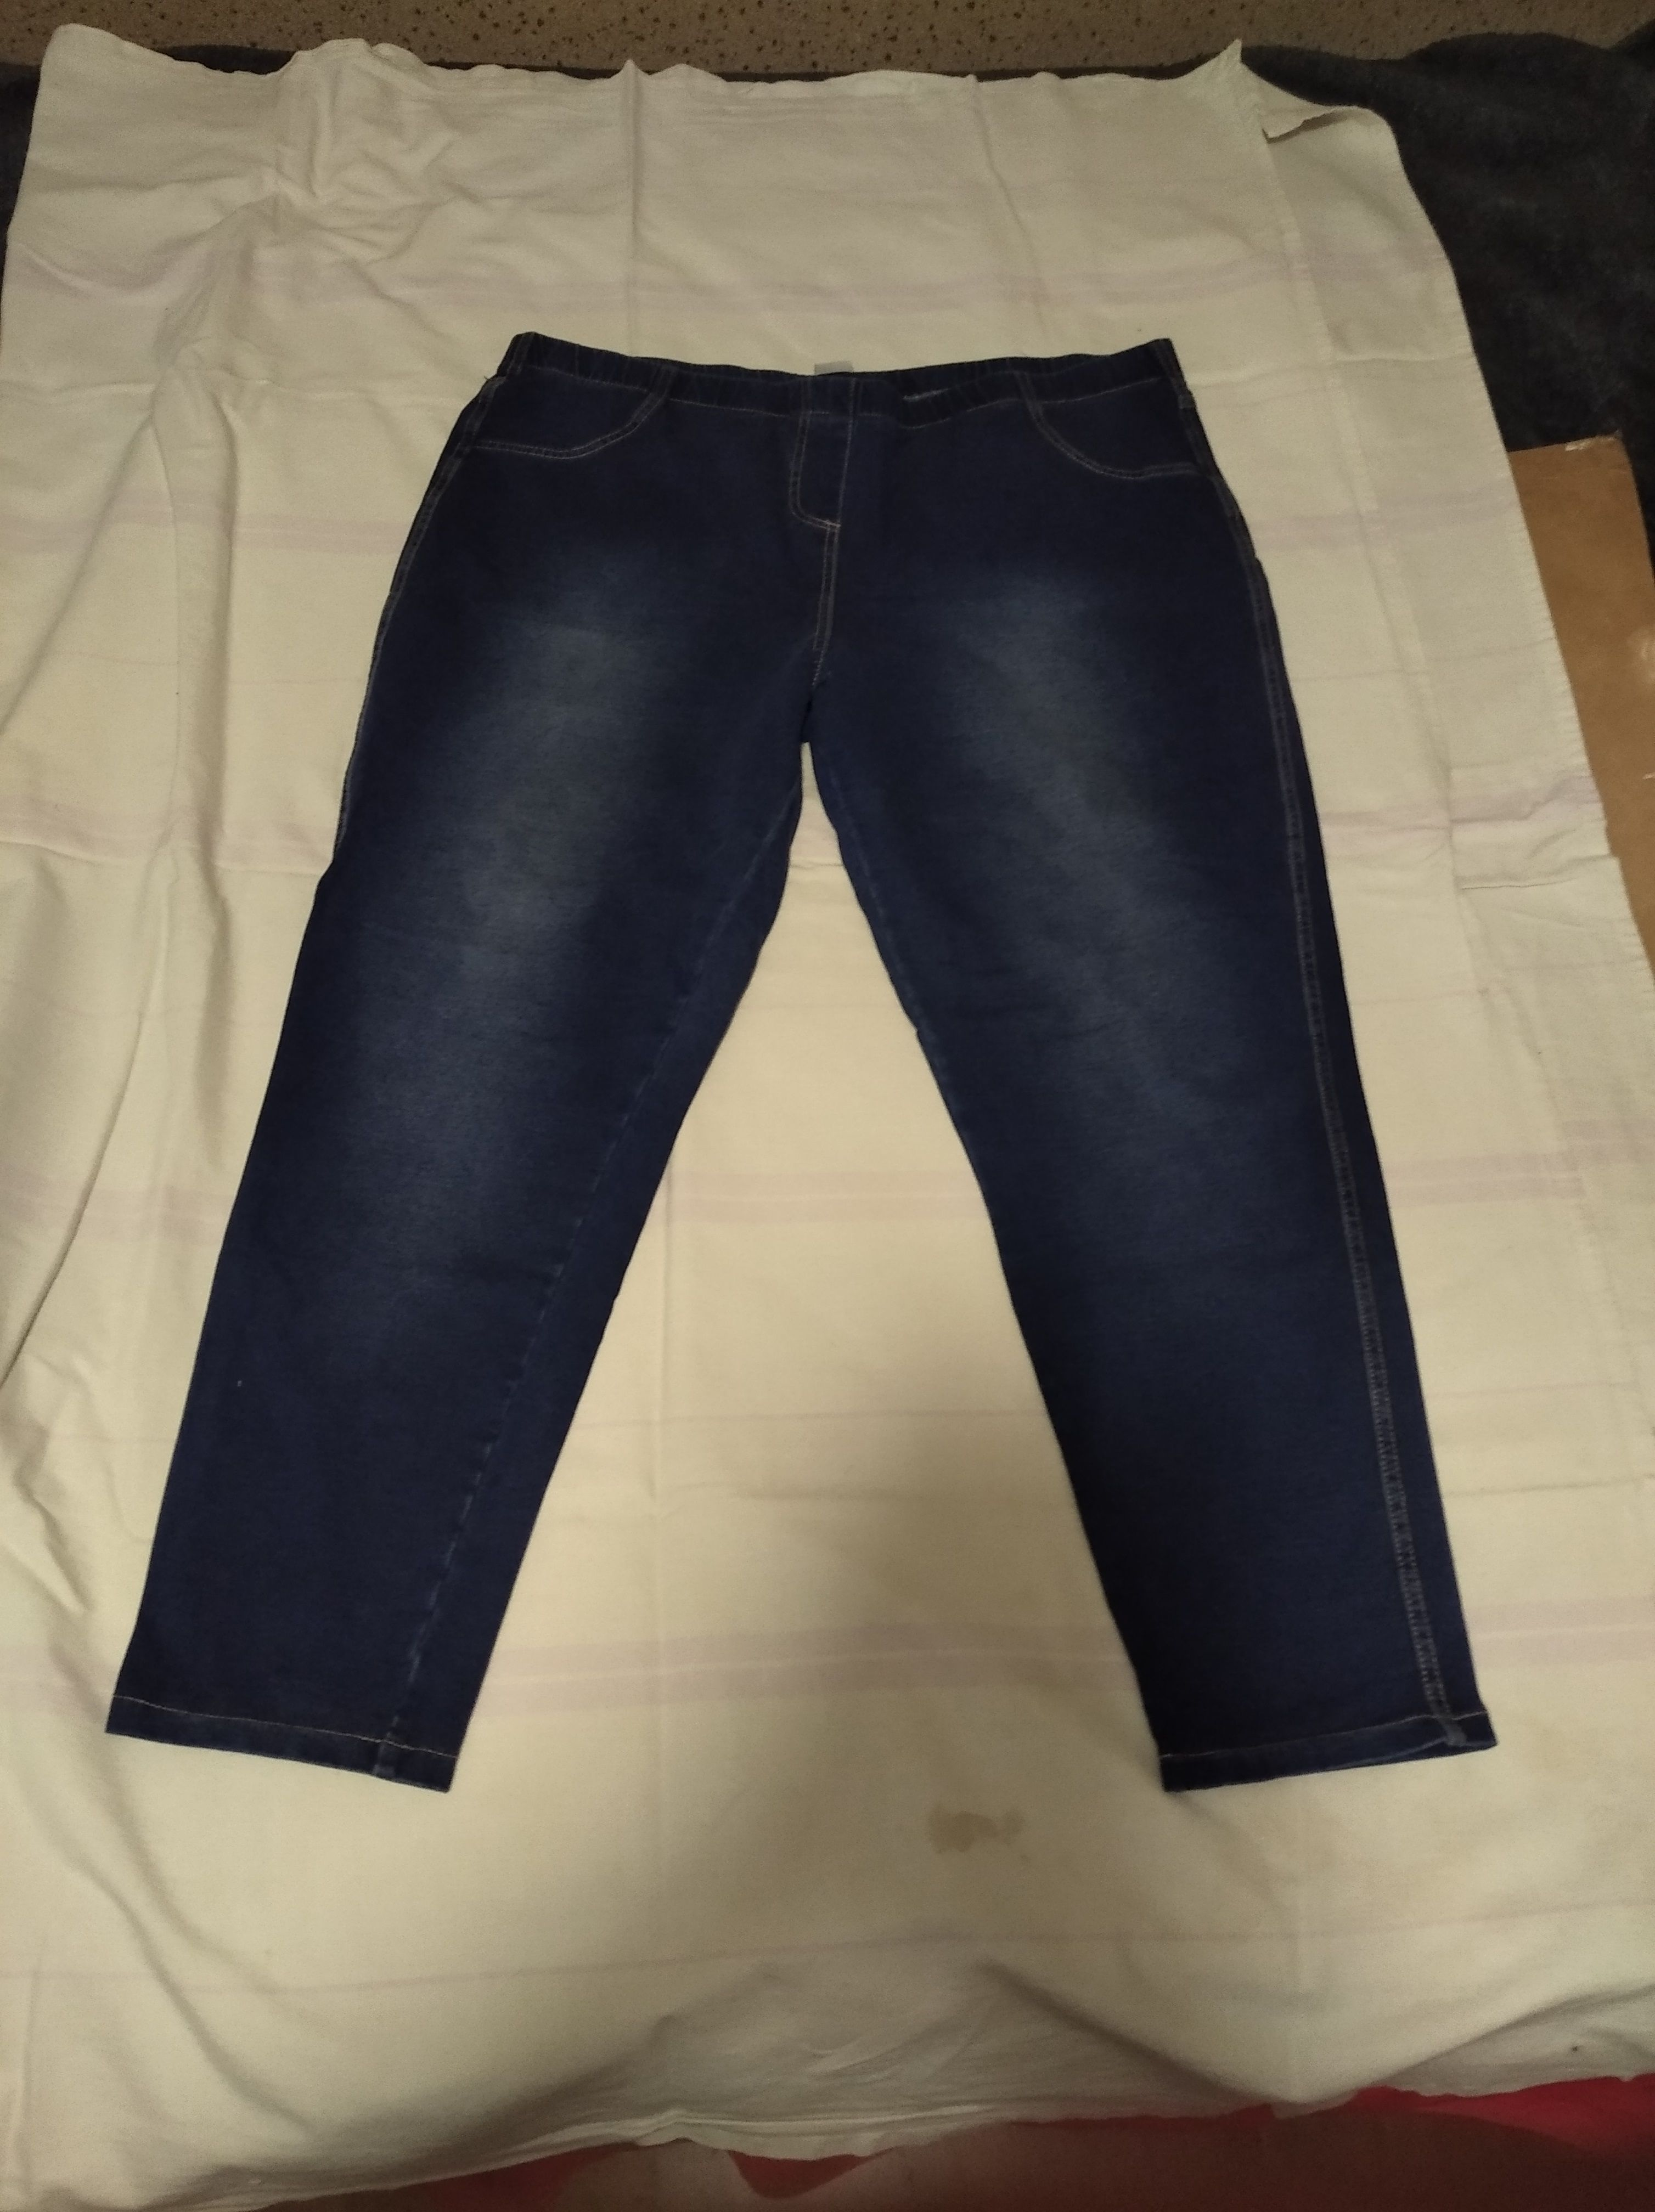clothes: (68, 321, 1504, 1826)
